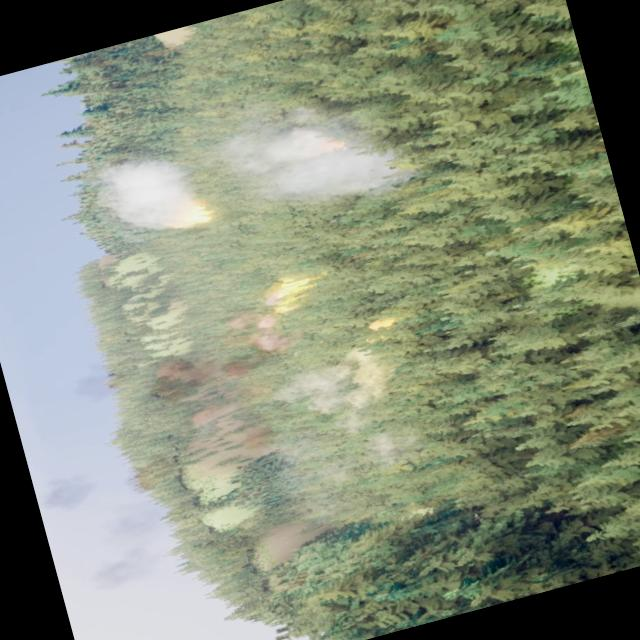fire: (256, 264, 326, 316), (162, 196, 210, 237)
smoke: (214, 79, 421, 226), (254, 326, 405, 440), (82, 138, 198, 244)
